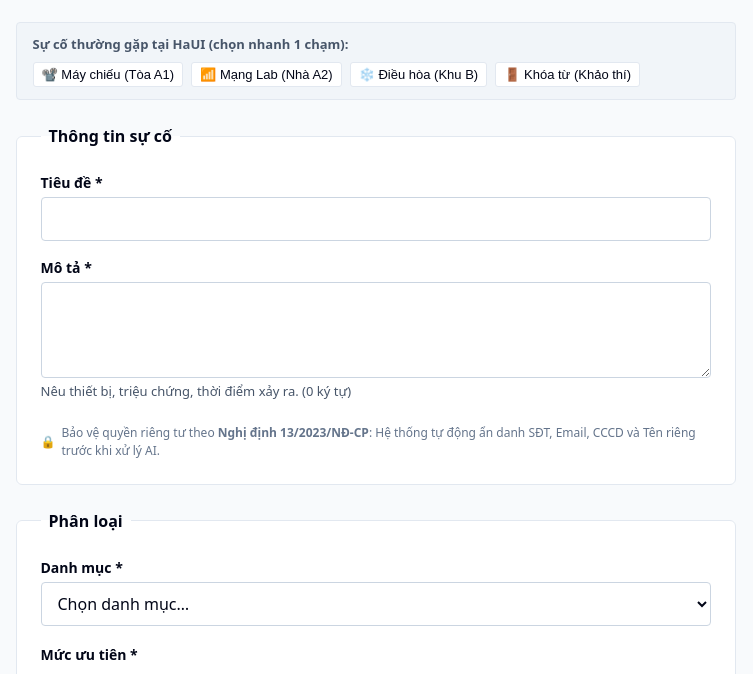
Test: TicketCreate › low-confidence AI result is only a suggestion until applied
Type "Cài phần mềm" into the field labelled "Tiêu đề *" at point(376, 219), box left=40, top=197, right=710, bottom=241
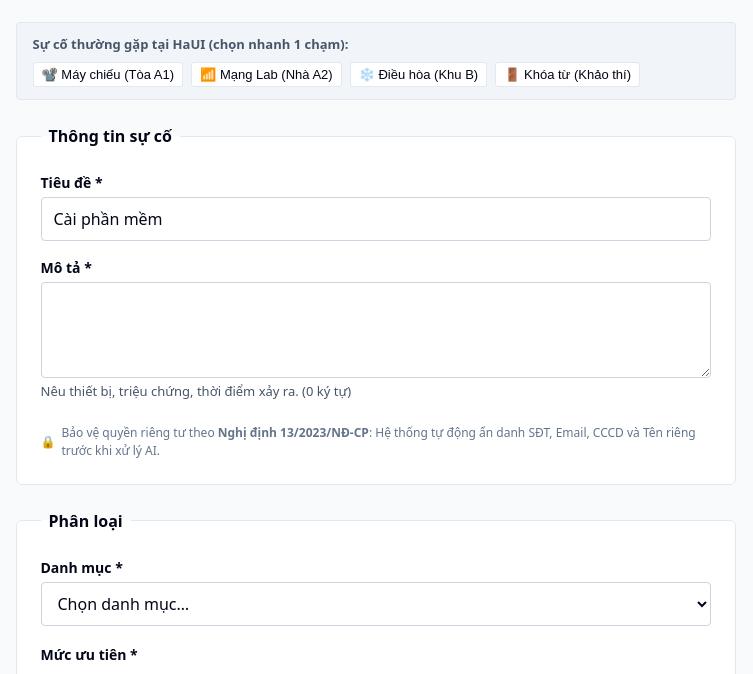
Type "Cần cài phần mềm kế toán mới" into the text box labelled "Mô tả *" at point(376, 330), box left=40, top=282, right=710, bottom=378
(page scrolled)
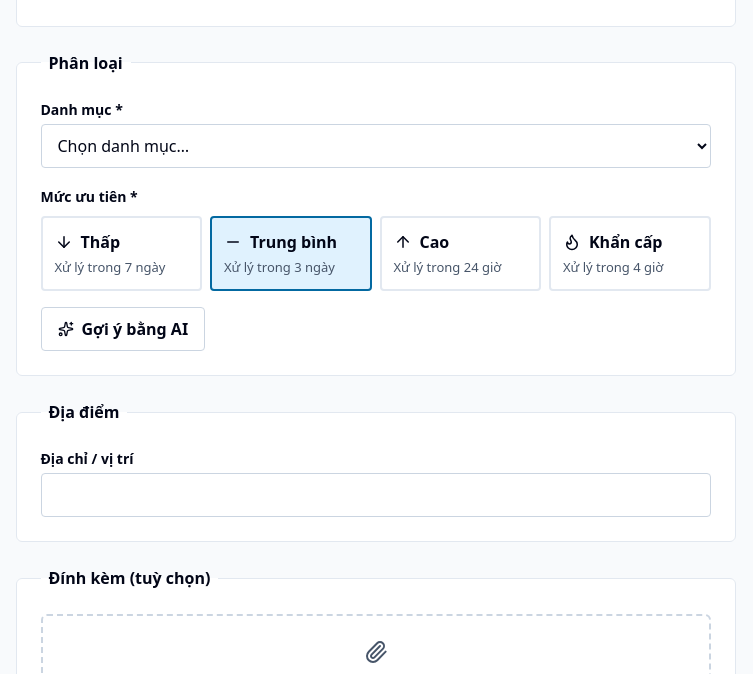
Click the button "Gợi ý bằng AI" at point(123, 329), box left=40, top=307, right=205, bottom=351
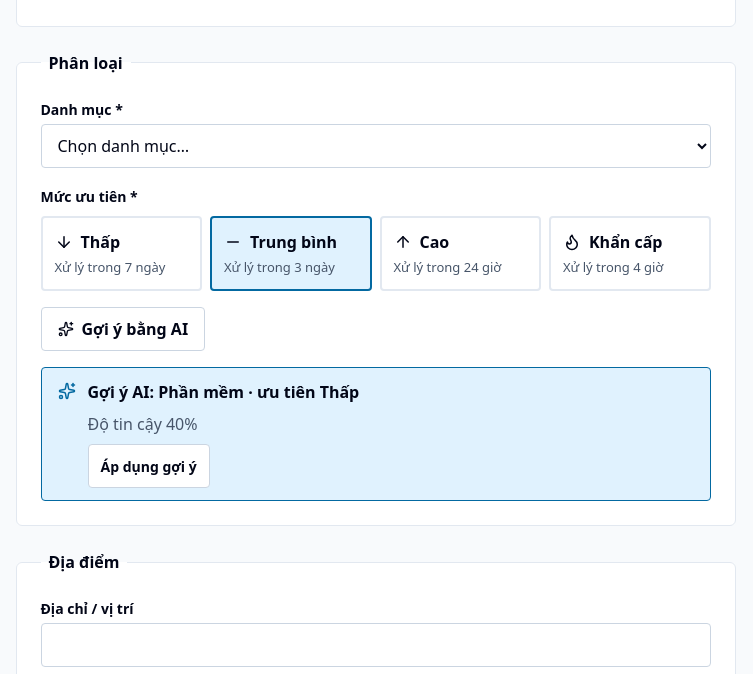
Expected: the dropdown labelled "Danh mục *" shows "Chọn danh mục…", left=40, top=124, right=710, bottom=168
Click the button "Áp dụng gợi ý" at point(149, 466), box left=88, top=444, right=210, bottom=488
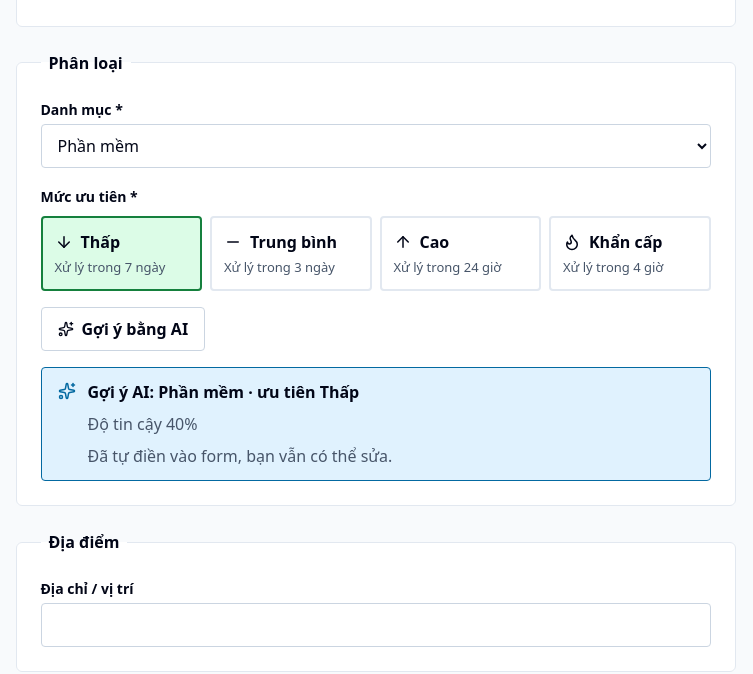
Expected: the dropdown labelled "Danh mục *" shows "Phần mềm", left=40, top=124, right=710, bottom=168
